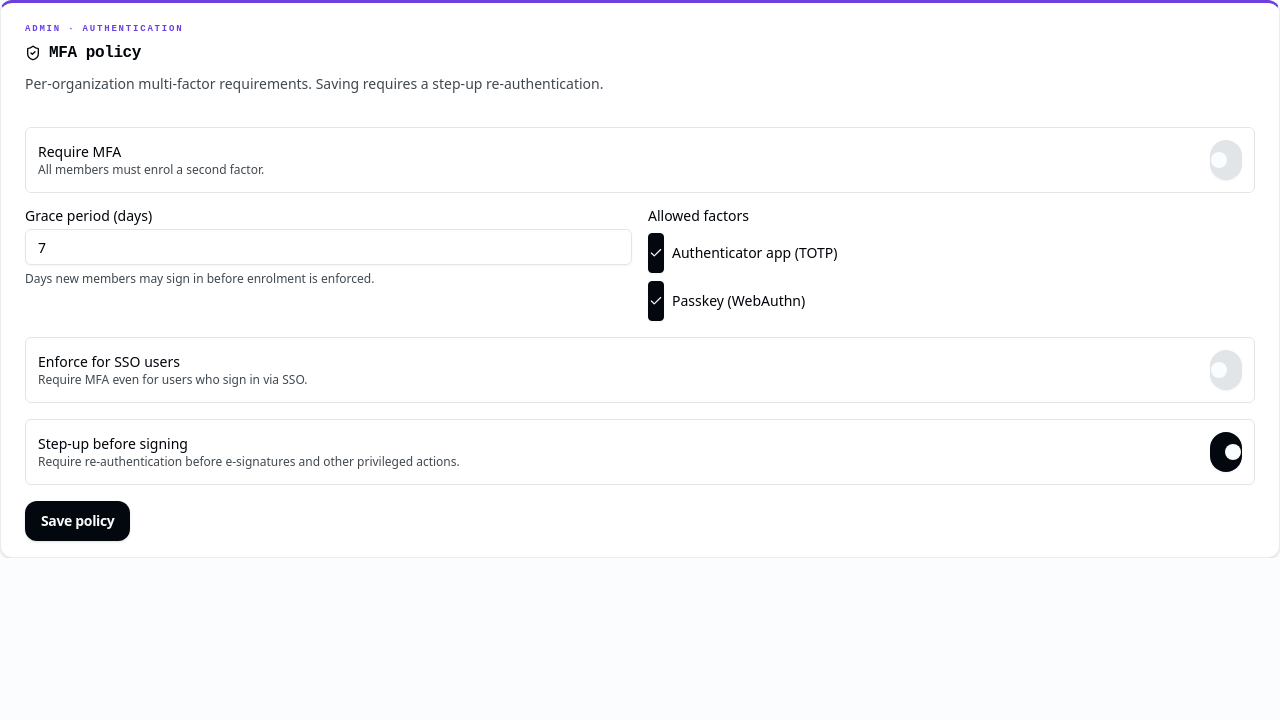
it: MfaPolicyPanel › loads the policy and saves an update with the edited body
The width and height of the screenshot is (1280, 720).
Expected: the field labelled "Grace period (days)" holds "7", [25,229,632,265]
Click the switch named "All members must enrol" in the row of "All members must enrol a second factor.": (1226, 160) [1210,140,1242,180]
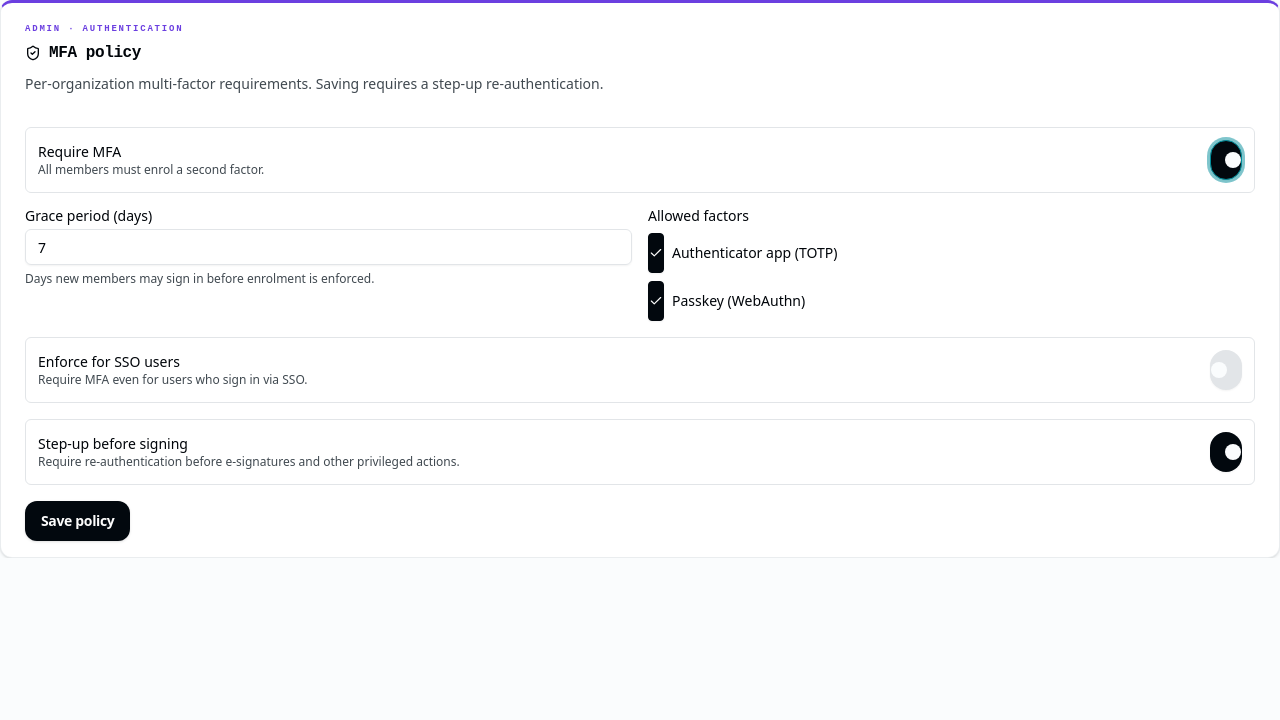
Click the button "Save policy": (78, 521) [25,501,130,541]
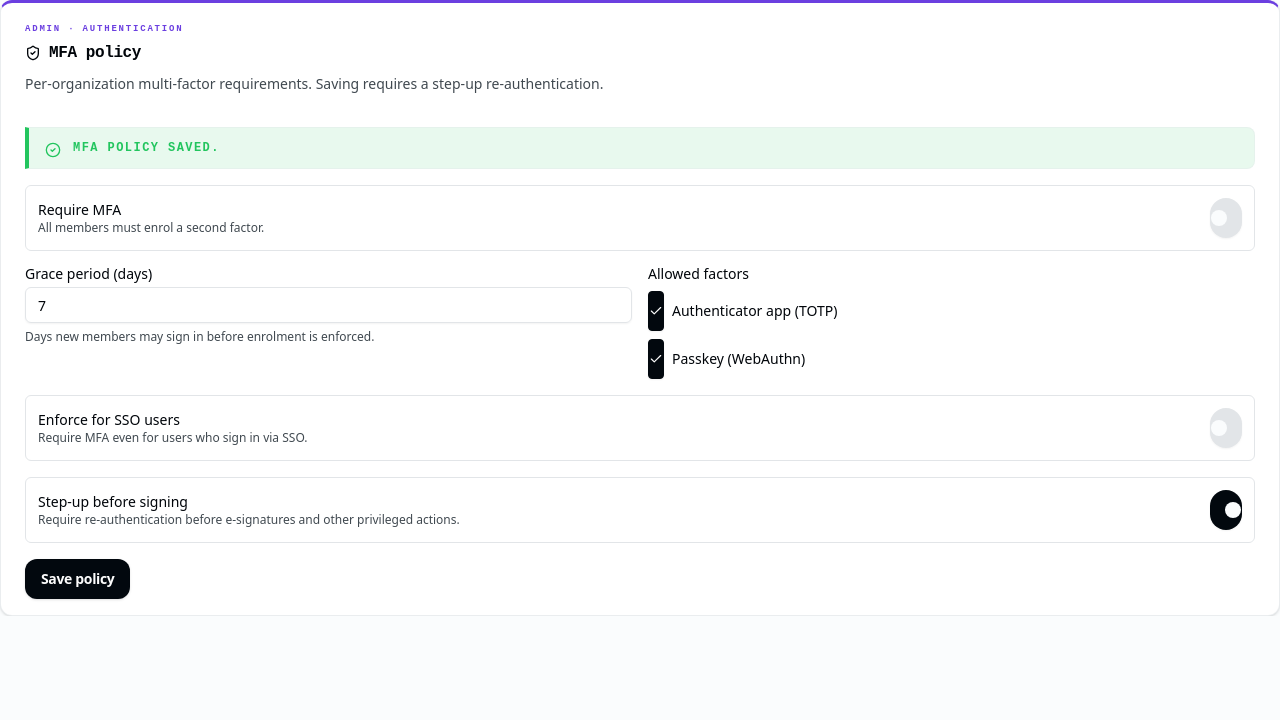
Expected: the text "MFA policy saved." is shown, [73,140,220,156]
